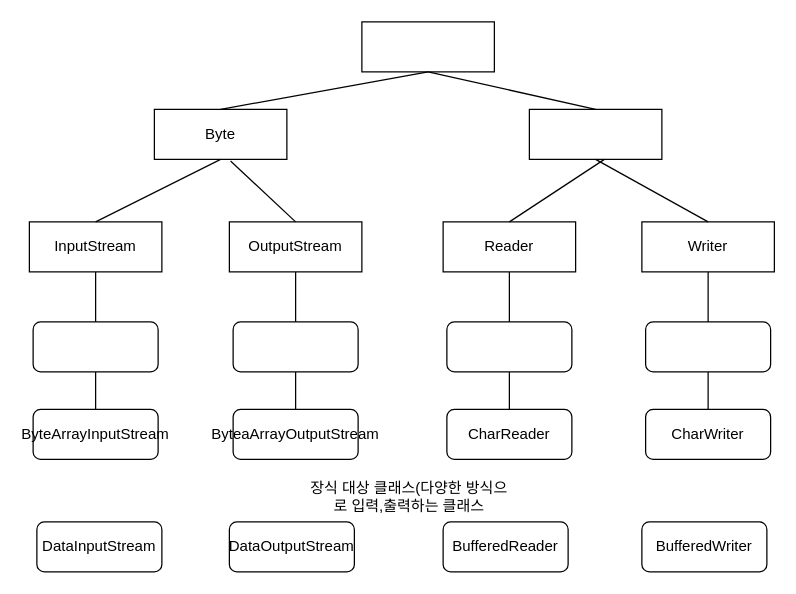
Some shapes in this 796 by 594 pixel diagram are drawn without their labels. Each missing label, with the centre of its shape:
char: the point at 595,133
FileInputStream: the point at 95,346
FileOutputStream: the point at 295,346
FileReader: the point at 509,346
FileWriter: the point at 707,346
I/O: the point at 427,46
